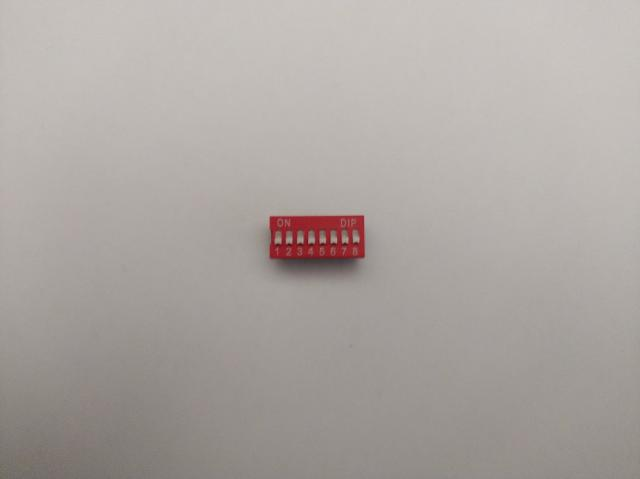dip_switch: (270, 215, 366, 258)
